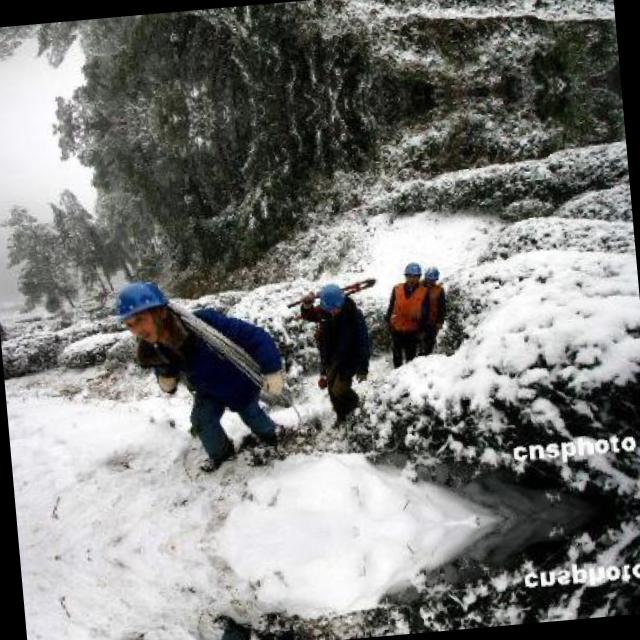helmet: (106, 274, 176, 348), (314, 278, 351, 320), (400, 260, 424, 288), (422, 260, 442, 288)
